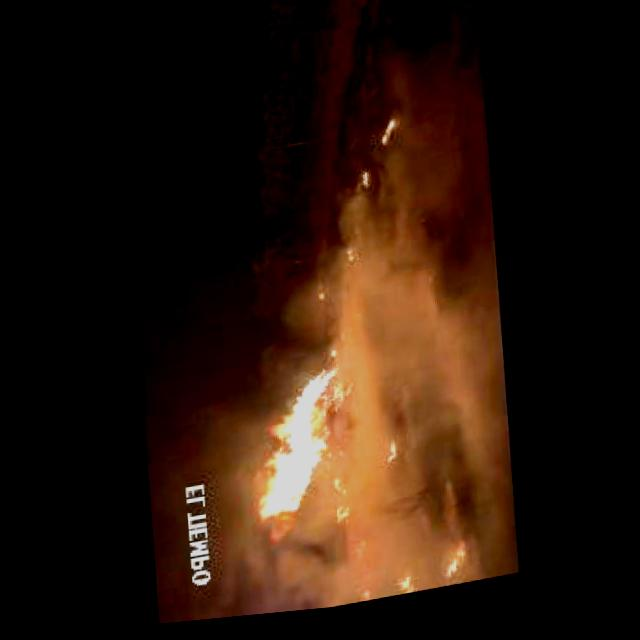helmet: (223, 353, 368, 565)
